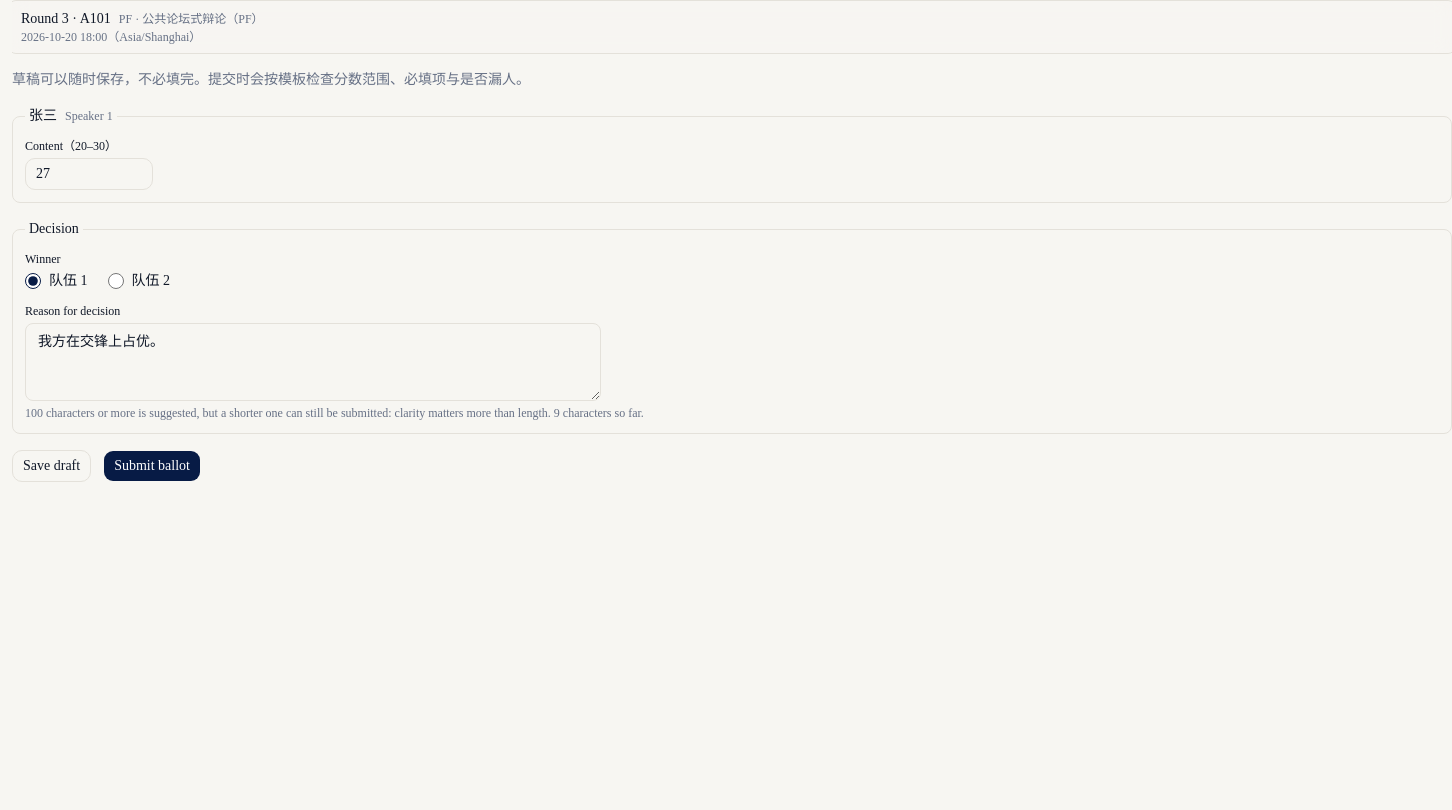
Test: 提交前的一步确认（规范 §9.3：Submission dialog） › 填齐之后摘要说「都填齐了」，并提醒提交后不能直接改
This screenshot has width=1452, height=810.
Step 1. Click the button "Submit ballot" → click(152, 466), box [103,450,201,482]
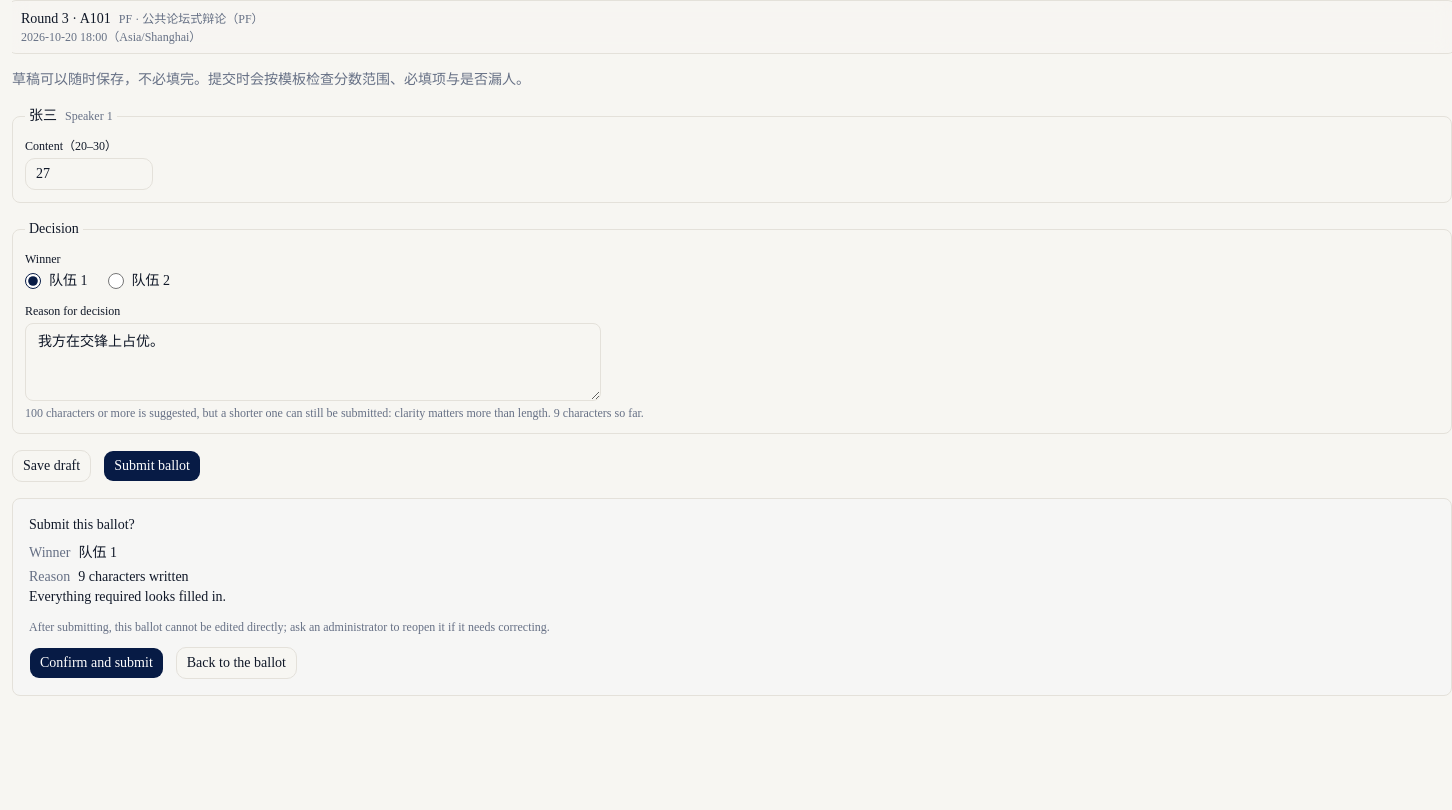
Check: the text "Everything required looks filled in." is shown, box [29,589,226,604]
Check: the text "cannot be edited" is shown, box [29,620,550,634]
Check: the button "Confirm and submit" is shown, box [29,647,164,679]
